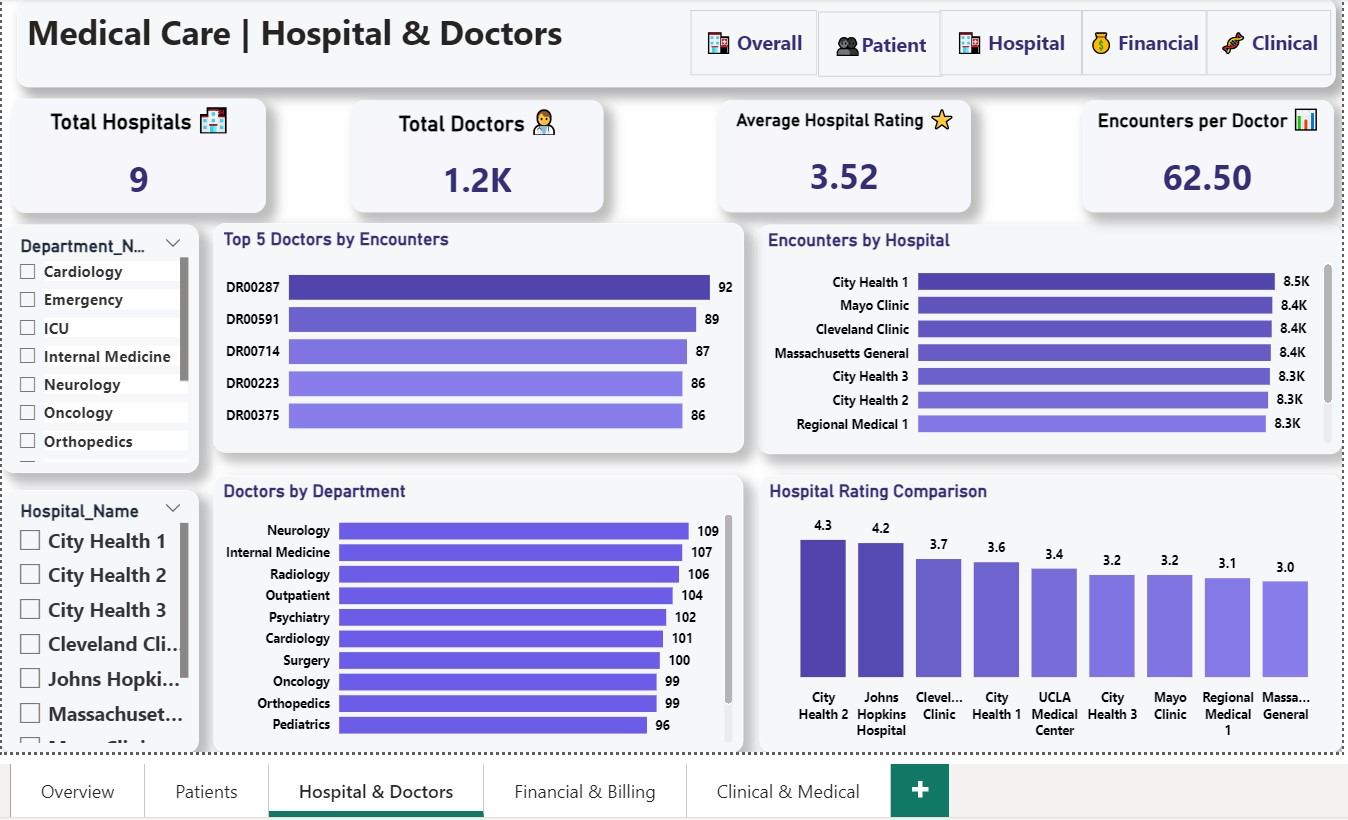

This screenshot's page, from the dashboard's own definition file:
{"tool":"powerbi","page":{"name":"Hospital & Doctors","canvas":[1280,720],"ordinal":2},"visuals":[{"type":"textbox","box":[14.3,0,1259,85],"z":0},{"type":"cardVisual","title":"Total Hospitals 🏨","fields":{"Data":["Count(Dim_Doctor.Hospital_ID)"]},"box":[10.6,95.4,242.3,109],"z":1000},{"type":"cardVisual","title":"Average Hospital Rating ⭐","fields":{"Data":["Avg(Dim_Hospital.Rating)"]},"box":[684.4,96.9,240.8,107.5],"z":2000},{"type":"cardVisual","title":"Total Doctors 👨⚕️","fields":{"Data":["Count(Dim_Doctor.Doctor_ID)"]},"box":[333.1,96.9,240.8,107.5],"z":3000},{"type":"slicer","fields":{"Values":["Dim_Department.Department_Name"]},"box":[0,216.3,187.7,237],"z":4000},{"type":"slicer","fields":{"Values":["Dim_Hospital.Hospital_Name"]},"box":[0,469.2,187.7,251.3],"z":5000},{"type":"clusteredBarChart","title":"Encounters by Hospital","fields":{"Category":["Dim_Hospital.Hospital_Name"],"Y":["CountNonNull(Fact_Billing.Encounter_ID)"]},"box":[722.1,216.3,558.3,219.5],"z":10000},{"type":"clusteredBarChart","title":"Doctors by Department","fields":{"Y":["CountNonNull(Dim_Doctor.Doctor_ID)"],"Category":["Dim_Department.Department_Name"]},"box":[202,454.9,505.8,265.6],"z":11000},{"type":"clusteredColumnChart","title":"Hospital Rating Comparison","fields":{"Category":["Dim_Hospital.Hospital_Name"],"Y":["Avg(Dim_Hospital.Rating)"]},"box":[723.3,455,556.7,265],"z":12000},{"type":"cardVisual","title":"Encounters per Doctor 📊","fields":{"Data":["Table.Encounters per Doctor"]},"box":[1031.2,97.6,240.7,107.4],"z":13000},{"type":"clusteredBarChart","title":"Top 5 Doctors by Encounters","fields":{"Y":["CountNonNull(Fact_Billing.Encounter_ID)"],"Category":["Fact_Encounter.Doctor_ID"]},"box":[202.2,215.4,506.5,219.2],"z":14001},{"type":"actionButton","title":"🏠 Executive","box":[657.6,11.3,120.9,62.4],"z":14002},{"type":"actionButton","title":"🏠 Executive","box":[778.6,13.2,119.1,62.4],"z":14003},{"type":"actionButton","title":"🏠 Executive","box":[895.8,11.3,136.1,62.4],"z":14004},{"type":"actionButton","title":"🏠 Executive","box":[1031.8,11.3,119.1,62.4],"z":14005},{"type":"actionButton","title":"🏠 Executive","box":[1150.9,11.3,119.1,62.4],"z":14006}]}

Visuals, with their boxes on the page's 1280x720 design canvas (x1, y1, x2, y2). These are canvas units, not pixel positions in the 1348x820 screenshot, which may show the page scaled, cropped or inside an application window:
textbox: bbox=[14, 0, 1273, 85]
"Total Hospitals 🏨" cardVisual: bbox=[11, 95, 253, 204]
"Average Hospital Rating ⭐" cardVisual: bbox=[684, 97, 925, 204]
"Total Doctors 👨⚕️" cardVisual: bbox=[333, 97, 574, 204]
slicer - Dim_Department.Department_Name: bbox=[0, 216, 188, 453]
slicer - Dim_Hospital.Hospital_Name: bbox=[0, 469, 188, 720]
"Encounters by Hospital" clusteredBarChart: bbox=[722, 216, 1280, 436]
"Doctors by Department" clusteredBarChart: bbox=[202, 455, 708, 720]
"Hospital Rating Comparison" clusteredColumnChart: bbox=[723, 455, 1280, 720]
"Encounters per Doctor 📊" cardVisual: bbox=[1031, 98, 1272, 205]
"Top 5 Doctors by Encounters" clusteredBarChart: bbox=[202, 215, 709, 435]
"🏠 Executive" actionButton: bbox=[658, 11, 778, 74]
"🏠 Executive" actionButton: bbox=[779, 13, 898, 76]
"🏠 Executive" actionButton: bbox=[896, 11, 1032, 74]
"🏠 Executive" actionButton: bbox=[1032, 11, 1151, 74]
"🏠 Executive" actionButton: bbox=[1151, 11, 1270, 74]
